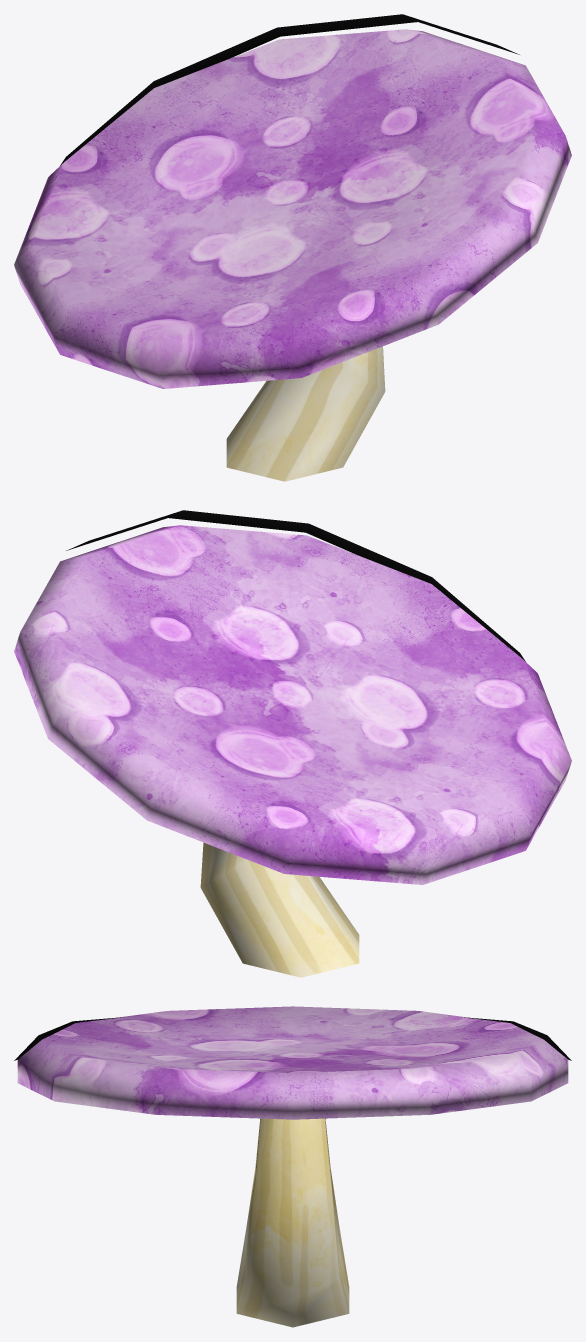
The model's file is entity10082n.gltf.
The picture shows the model from 3 angles, top to bottom: view 1: azimuth 30°, elevation 25°; view 2: azimuth 150°, elevation 25°; view 3: azimuth 270°, elevation 25°; orthographic projection. The views are drawn at different scales.
Parts seen in each view (by area): view 1: node_Mushroom_01 (5); view 2: node_Mushroom_01 (5); view 3: node_Mushroom_01 (5).
Part boxes in pixels (bbox=[...]): node_Mushroom_01 (5): bbox=[14, 14, 571, 481]; node_Mushroom_01 (5): bbox=[14, 510, 571, 977]; node_Mushroom_01 (5): bbox=[14, 1006, 571, 1327].
Size of what is drawn, in the model's own units: 0.7802 by 0.5561 by 0.8177.
